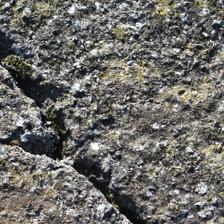Crack: (5, 37, 143, 222)
